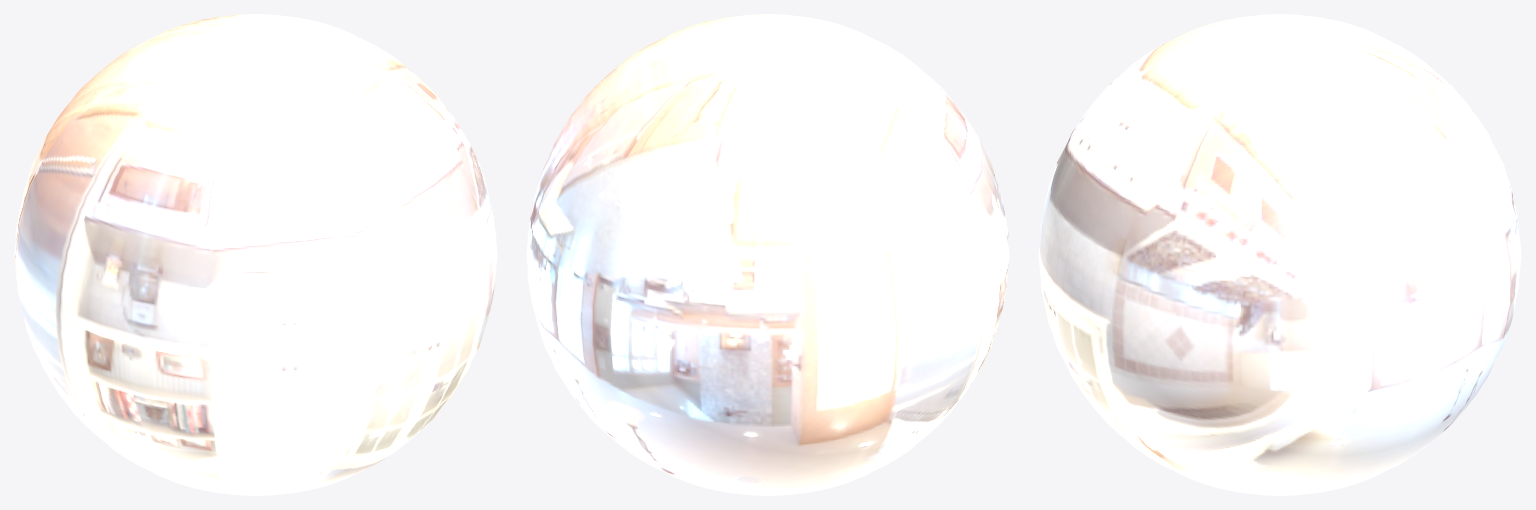
3 renders of one model, left to right at view 1: azimuth 30°, elevation 25°; view 2: azimuth 150°, elevation 25°; view 3: azimuth 270°, elevation 25°, orthographic.
Visible parts, largest first — view 1: Sphere.1, Sphere; view 2: Sphere.1, Sphere; view 3: Sphere.1, Sphere.
Boxes of the visible parts, <box> form: Sphere.1: <box>14,14,497,495</box>; Sphere: <box>15,14,496,495</box>; Sphere.1: <box>526,14,1009,495</box>; Sphere: <box>527,14,1008,495</box>; Sphere.1: <box>1038,14,1521,495</box>; Sphere: <box>1040,14,1519,495</box>.
Bounding box in the file's own units: 24900 × 24900 × 24900.
